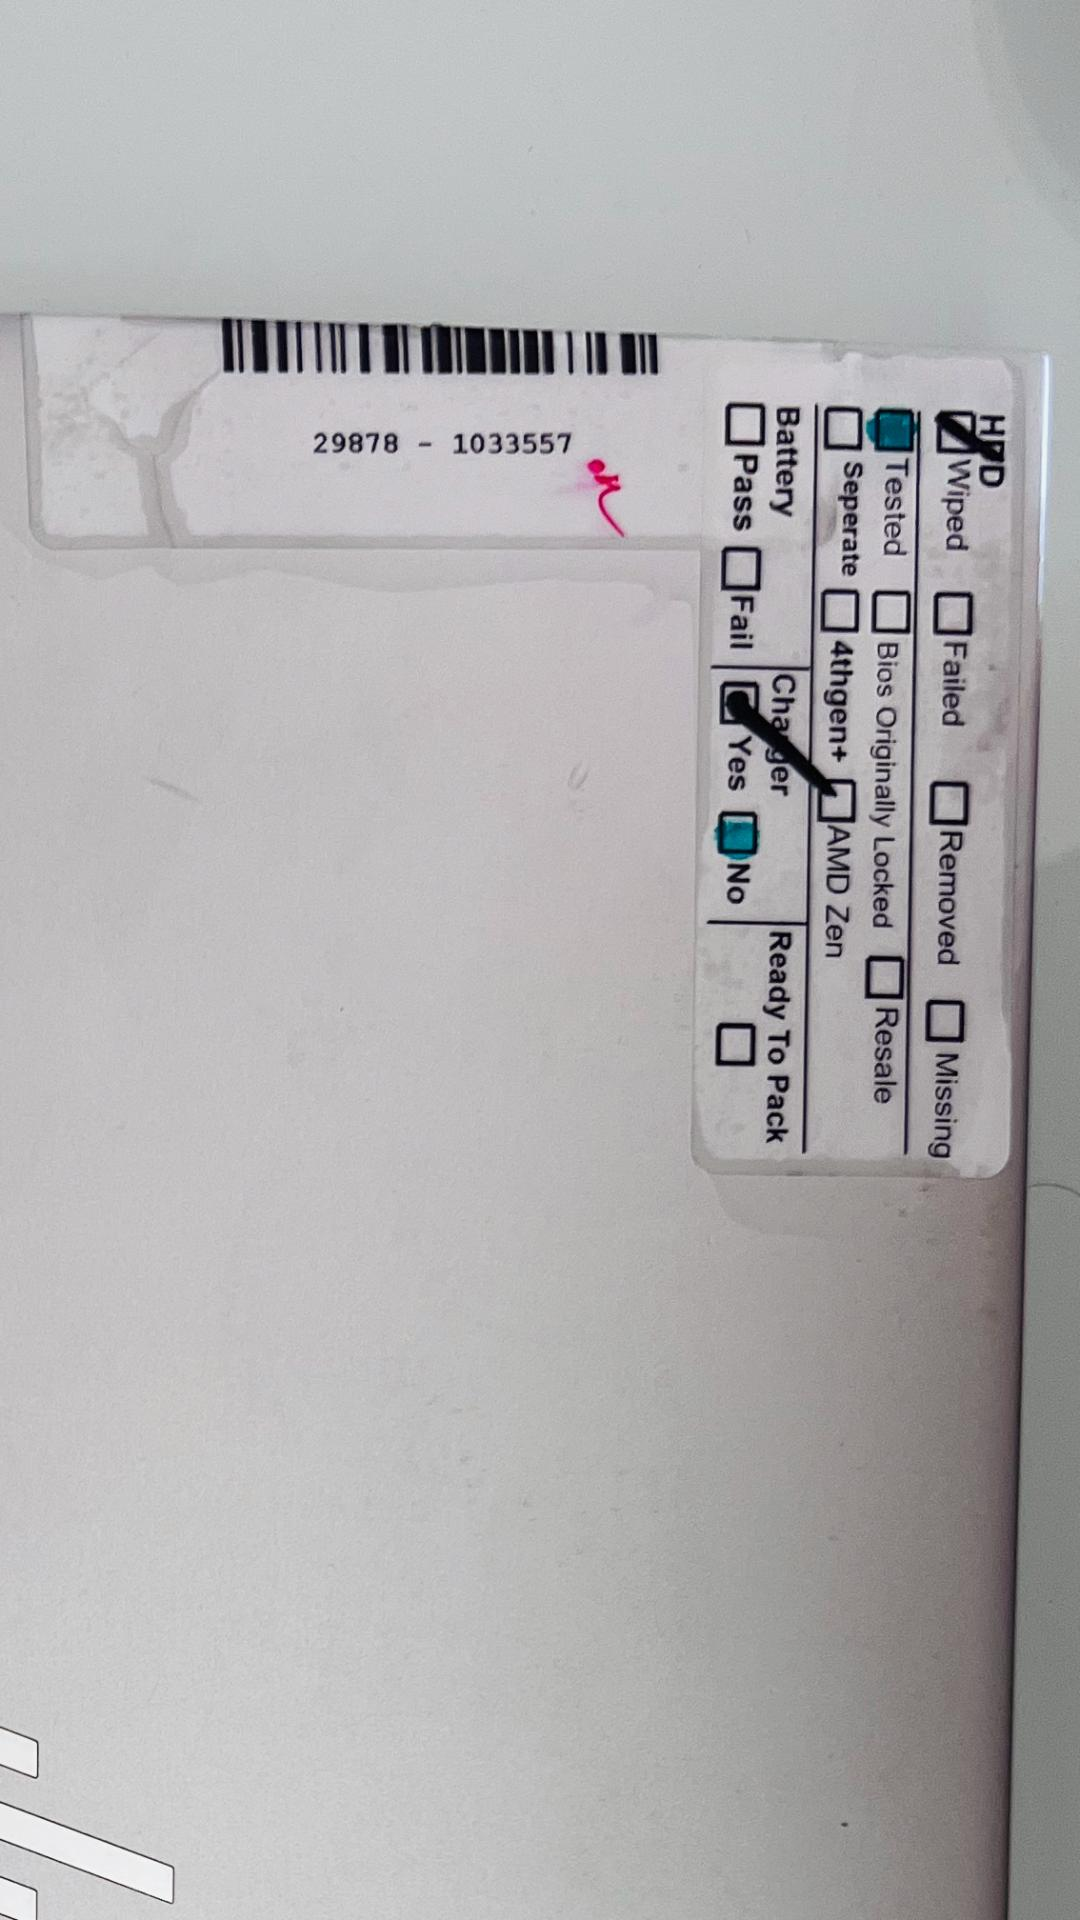chip: (839, 1820, 853, 1830)
